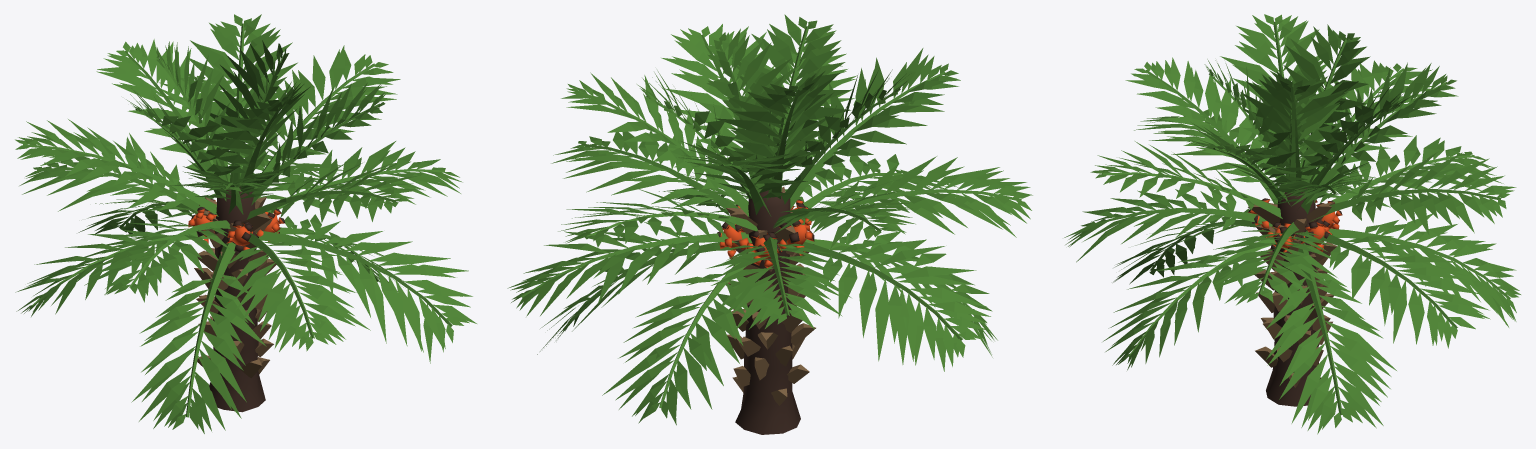
File: sawit_3.glb
The picture shows the model from 3 angles, left to right: view 1: azimuth 30°, elevation 25°; view 2: azimuth 150°, elevation 25°; view 3: azimuth 270°, elevation 25°; orthographic projection. The views are drawn at different scales.
Parts seen in each view (by area): view 1: sawit_3_body, Fruit_3; view 2: sawit_3_body, Fruit_2, Fruit_0; view 3: sawit_3_body, Fruit_0.
Part boxes in pixels (x1,y1,x2,y2): sawit_3_body: (15,14,476,433); Fruit_3: (227,220,258,252); sawit_3_body: (507,14,1032,434); Fruit_2: (778,218,814,255); Fruit_0: (717,222,748,258); sawit_3_body: (1064,14,1520,434); Fruit_0: (1300,219,1332,251).
Bounding box in the file's own units: 5.88 × 4.8 × 5.85.
